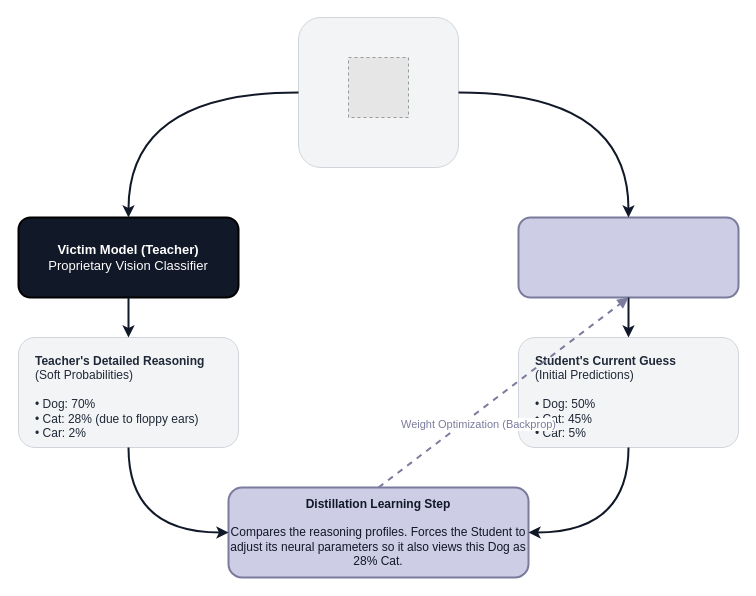
This 756x596 diagram has some shape labels left out. Grey dashed boxes stand in for pictures. Here are the shapes that lost their labels. From the top down, the box of each, then its label:
(298, 16, 458, 168): Query Image A clean picture of a Dog with floppy ears
(517, 216, 739, 298): Surrogate Model (Student) Local Attack Clone
